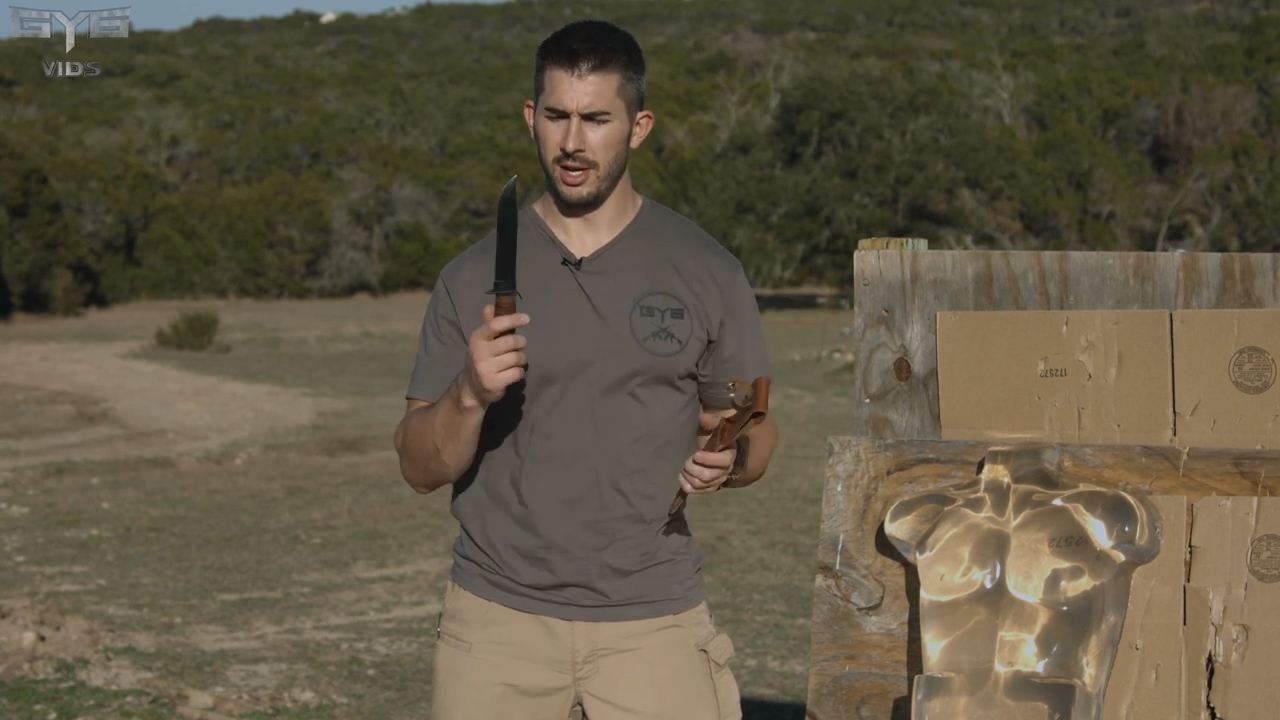knife: (460, 167, 535, 388)
